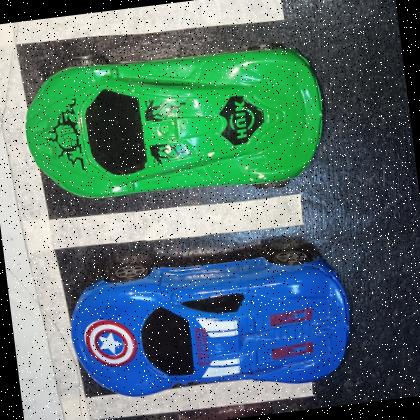Car: (24, 47, 324, 198), (70, 247, 351, 397)
